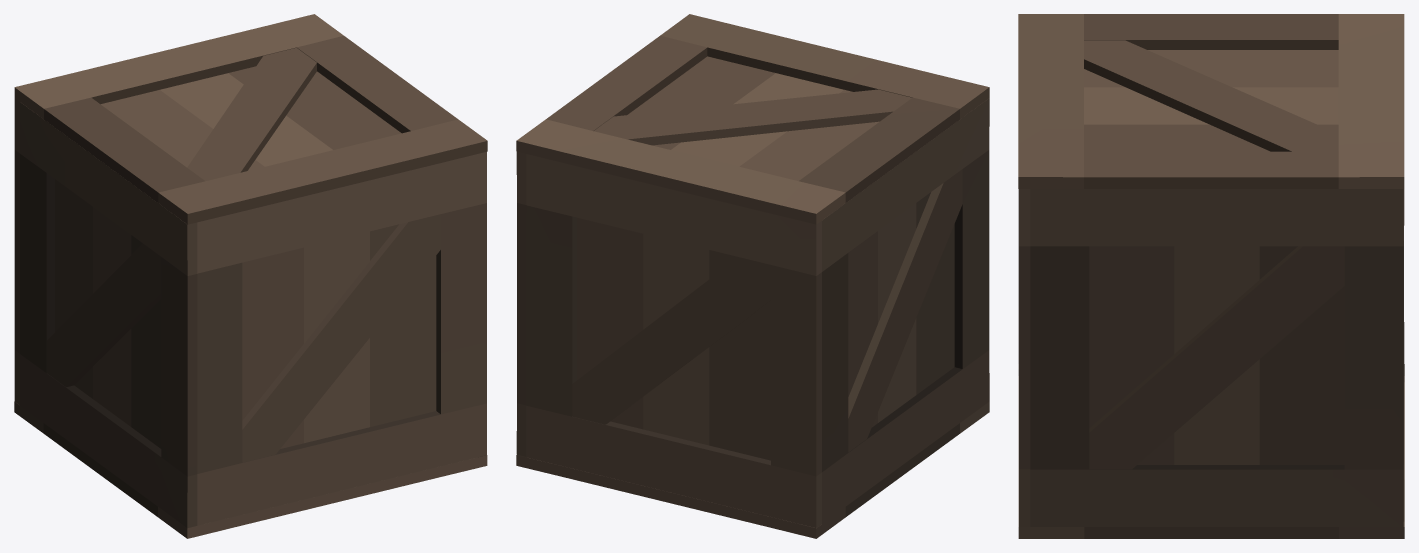
Rendered from human-containers-wooden-crate_v2.glb.
3 renders of one model, left to right at view 1: azimuth 30°, elevation 25°; view 2: azimuth 150°, elevation 25°; view 3: azimuth 270°, elevation 25°, orthographic. The views are drawn at different scales.
Visible parts, largest first — view 1: Wooden Crate_v2; view 2: Wooden Crate_v2; view 3: Wooden Crate_v2.
Boxes of the visible parts, bbox=[...] form: Wooden Crate_v2: bbox=[14, 14, 487, 538]; Wooden Crate_v2: bbox=[516, 14, 989, 538]; Wooden Crate_v2: bbox=[1018, 14, 1404, 538].
Bounding box in the file's own units: 0.58 × 0.6 × 0.5802.
